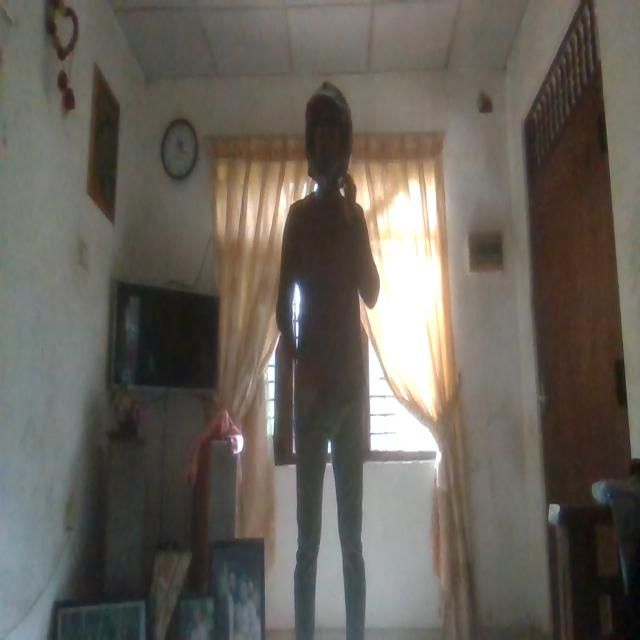Helmet_Wearer: (304, 66, 354, 222)
Person: (280, 84, 372, 640)
